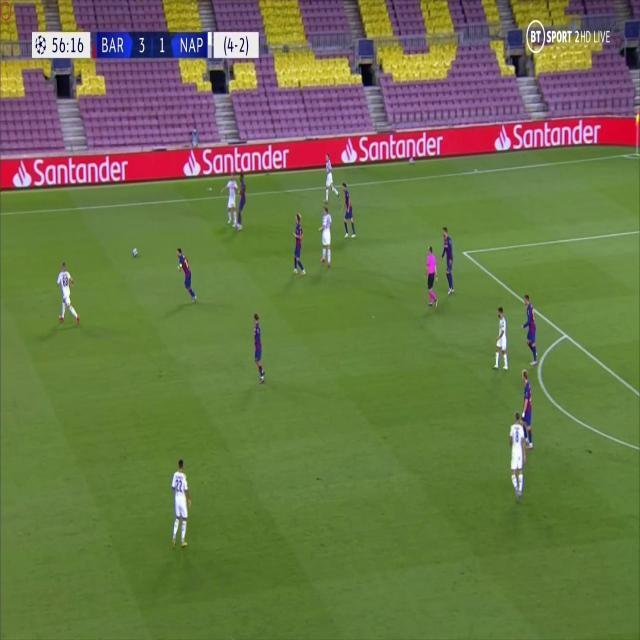ball: (132, 246, 139, 257)
player: (168, 453, 192, 550), (508, 408, 529, 498), (55, 259, 80, 326), (519, 292, 539, 365), (519, 367, 536, 447), (249, 309, 267, 383), (439, 223, 457, 296), (175, 248, 198, 303), (492, 303, 510, 373), (291, 211, 309, 277), (317, 201, 334, 268), (339, 180, 357, 241), (222, 173, 238, 227), (236, 168, 249, 225), (323, 152, 338, 201)
referee: (423, 242, 439, 307)
